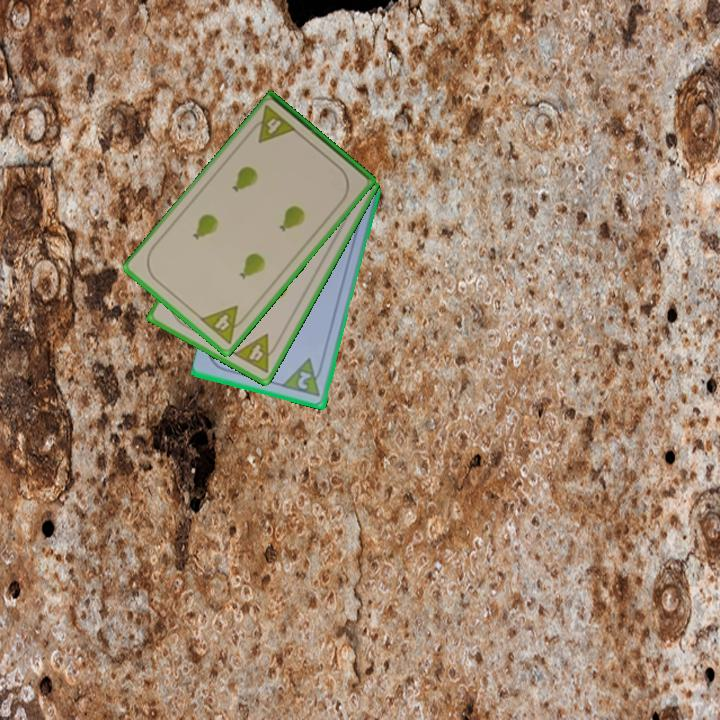2p: (280, 355, 327, 400)
4p: (196, 302, 251, 347), (230, 330, 283, 376), (245, 102, 300, 146)
